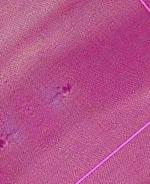knot: (54, 82, 77, 101), (1, 131, 14, 152)
